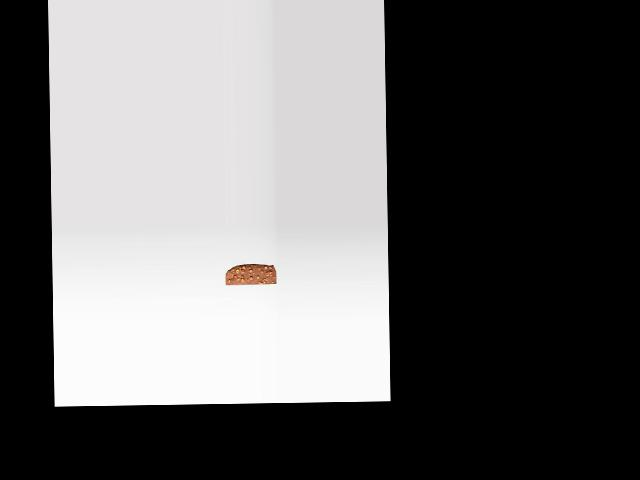chocolate: (225, 260, 276, 287)
